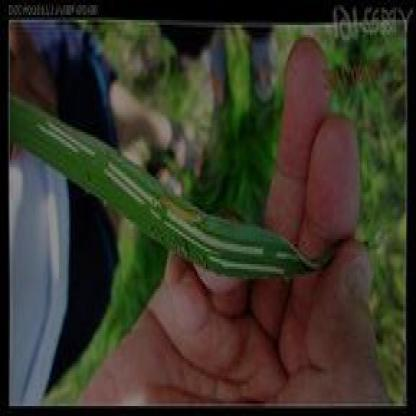leaf-folder: (146, 181, 208, 240)
